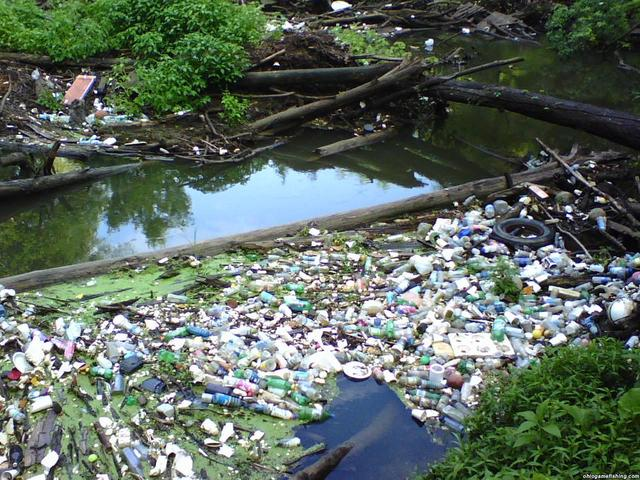garbage: (34, 290, 508, 455)
